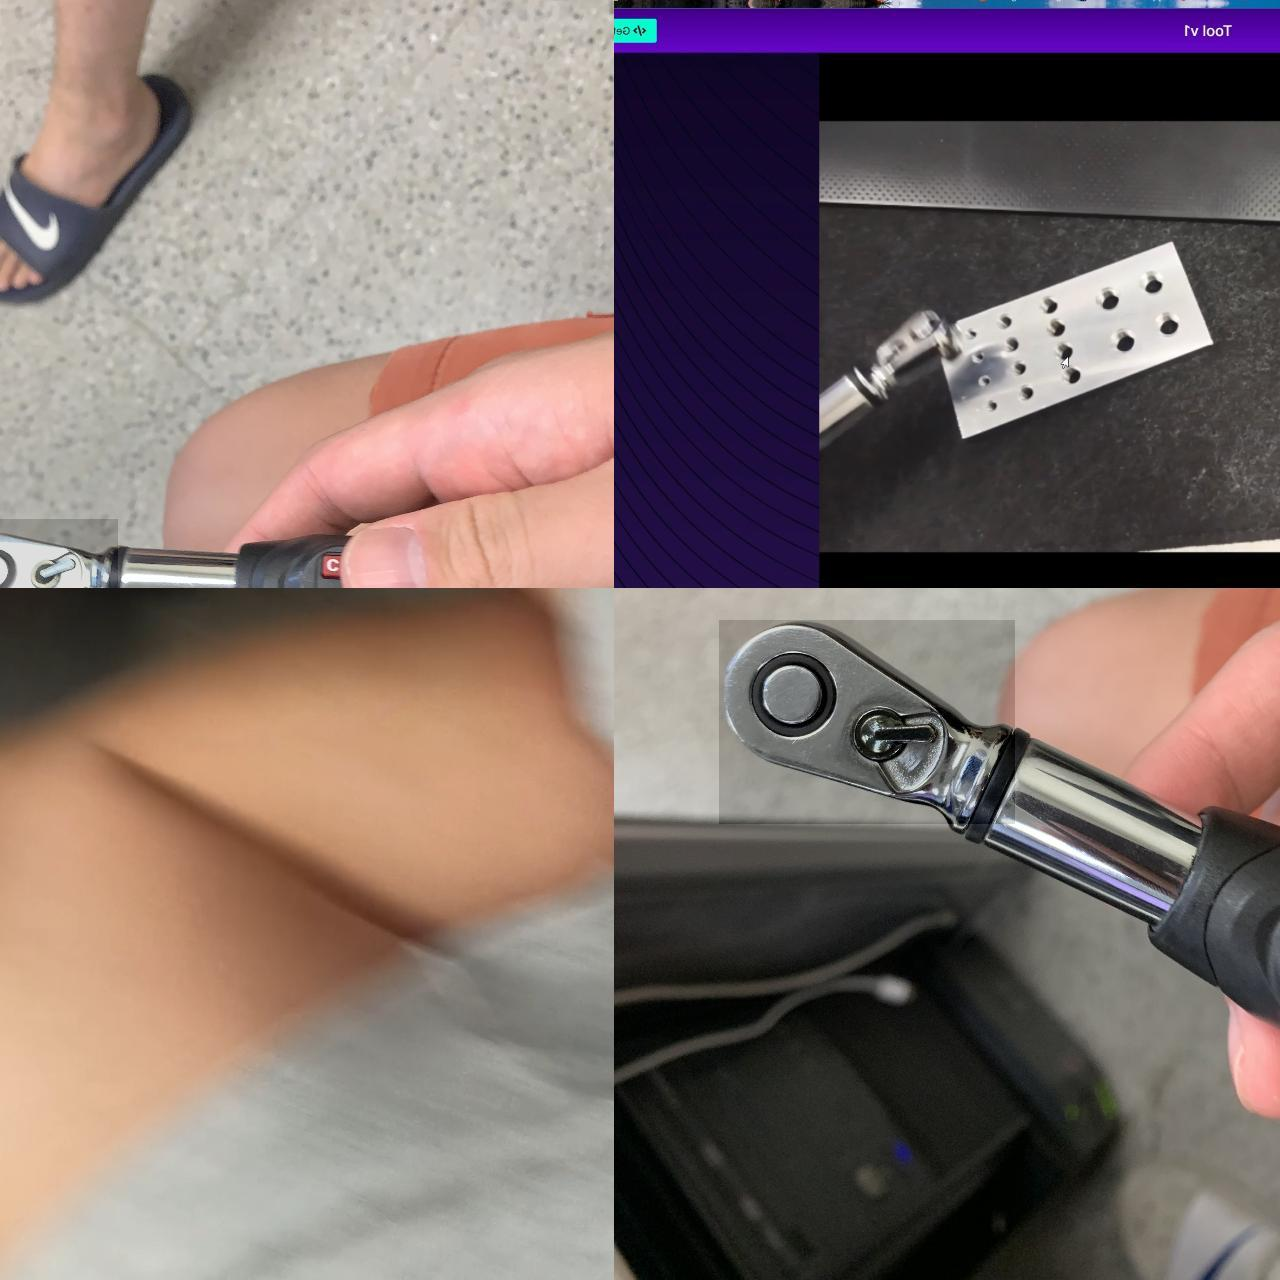Tool: (719, 620, 1015, 824), (0, 519, 118, 588)
